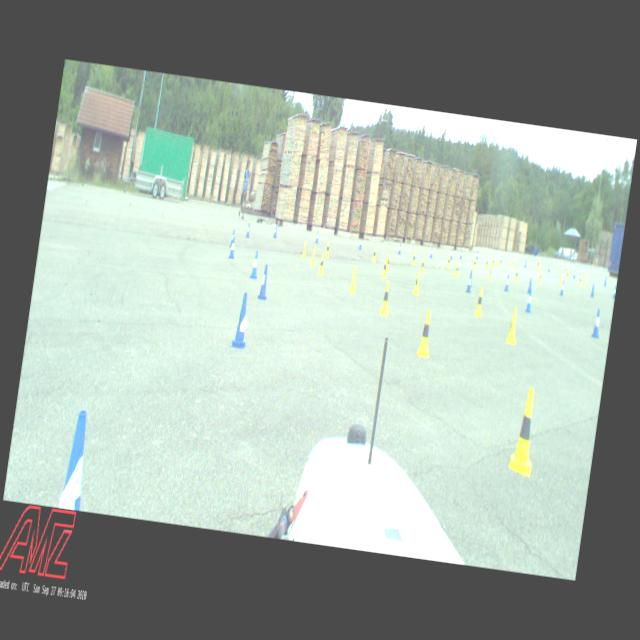blue_cone: (58, 410, 94, 511), (230, 292, 252, 348), (258, 264, 271, 300), (591, 309, 603, 338), (250, 251, 260, 279), (524, 290, 534, 314), (228, 236, 236, 258), (466, 273, 474, 293), (230, 230, 236, 248), (246, 222, 252, 238), (504, 274, 510, 290), (527, 278, 533, 294), (590, 283, 596, 296), (560, 281, 565, 295), (315, 230, 320, 243), (358, 237, 363, 250), (273, 225, 278, 238), (429, 246, 434, 258), (612, 286, 616, 298), (398, 243, 402, 254), (450, 250, 453, 259), (604, 277, 607, 286), (548, 264, 551, 272), (460, 250, 463, 258), (476, 250, 478, 260), (574, 270, 576, 279)
yellow_cone: (508, 386, 543, 475), (416, 310, 435, 358), (506, 308, 520, 344), (379, 280, 392, 316), (474, 288, 486, 317), (349, 266, 359, 292), (318, 252, 327, 276), (413, 272, 422, 296), (310, 247, 318, 266), (382, 258, 389, 279), (302, 241, 308, 258), (325, 242, 331, 258), (454, 262, 460, 277), (420, 258, 426, 273), (446, 256, 452, 268), (372, 248, 377, 262), (488, 266, 493, 280), (386, 255, 390, 272), (514, 269, 519, 282), (412, 252, 416, 266), (473, 258, 477, 270), (538, 272, 542, 284), (485, 258, 489, 269), (559, 274, 563, 285), (578, 276, 582, 286), (510, 258, 514, 268), (584, 276, 588, 286), (492, 257, 495, 267), (566, 271, 569, 280), (498, 258, 501, 267), (538, 264, 540, 273)
